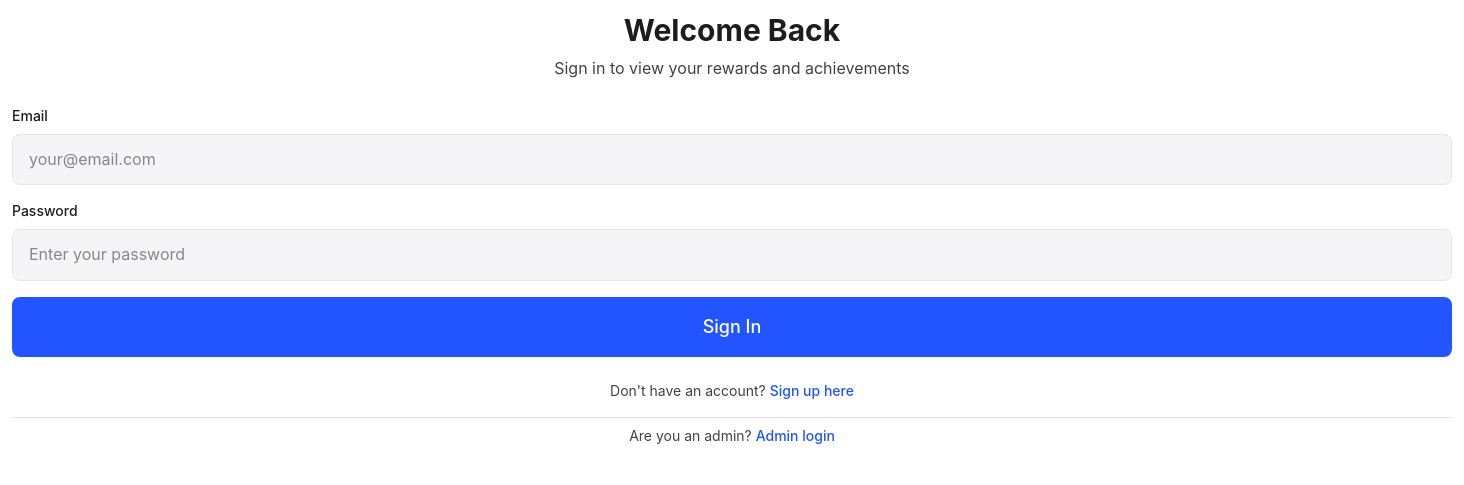
Test: Login Form › Form Validation › should show email validation error for invalid email format
Step 1. Type "invalid-email" into the field with placeholder "your@email.com" → (732, 159), box [12, 134, 1452, 185]
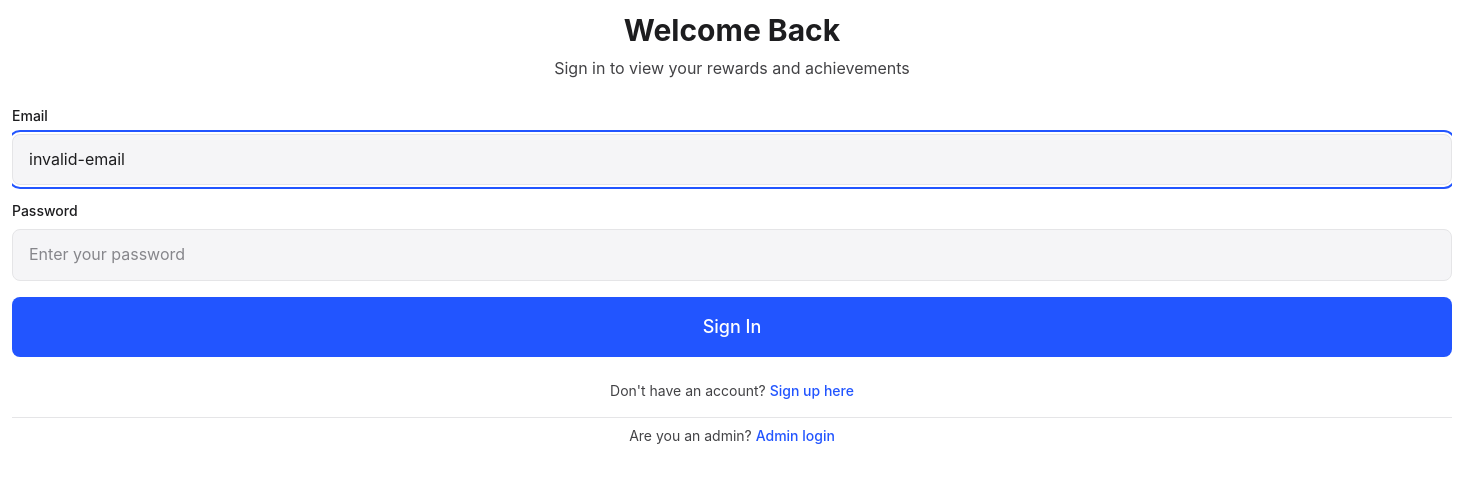
Step 2. Click the button "Sign In" → (732, 327), box [12, 297, 1452, 357]
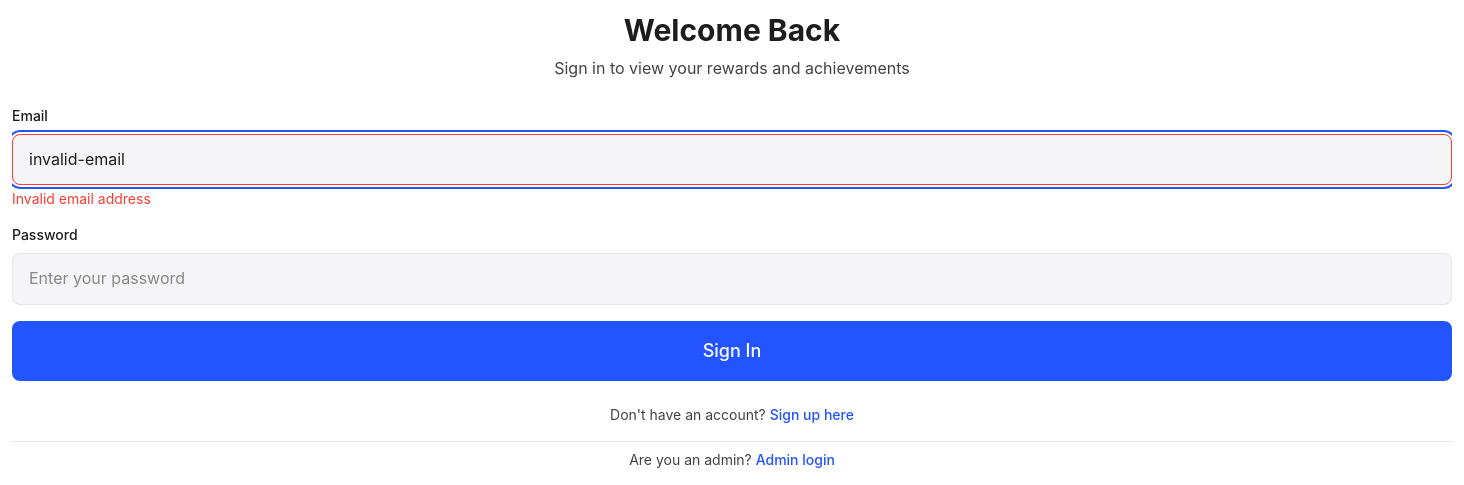
expect the text "Invalid email address" is shown: met, box [12, 190, 151, 207]
